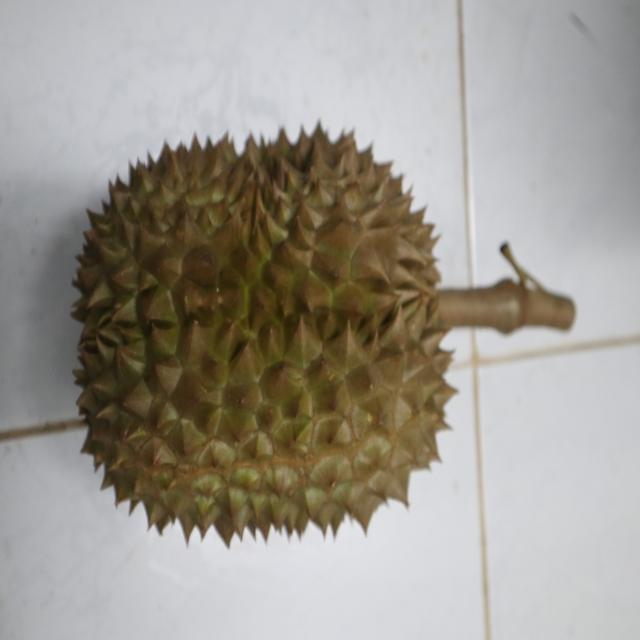mature: (69, 129, 457, 545)
